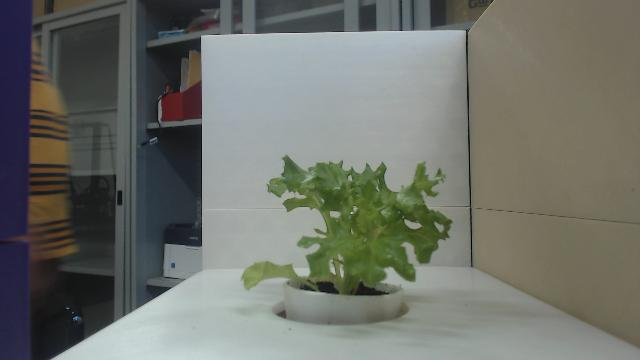Vegetative Stage: (241, 154, 454, 298)
